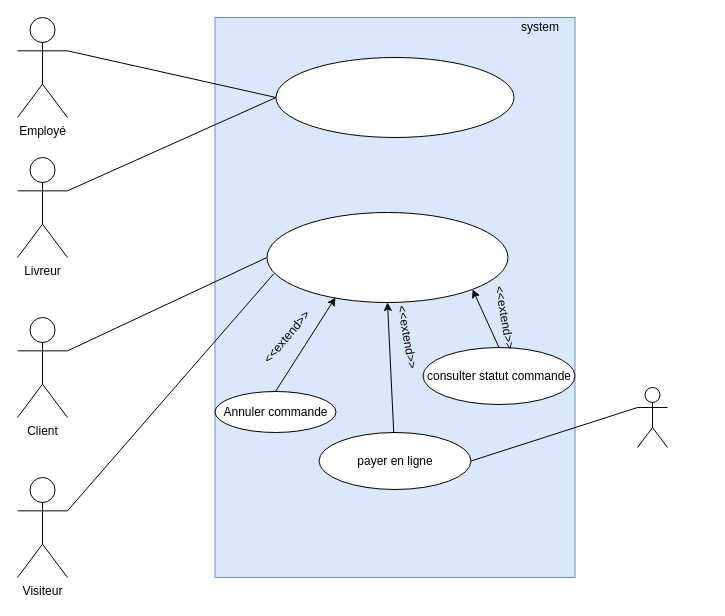
The diagram is 725 pixels wide and 616 high, and some of its shapes have lost their labels. Here are the shapes that lost their labels. From the top down, the centre of each, then its label:
At point (394, 97): "Modifier statut commande".
At point (387, 257): "Commander en ligne".
At point (652, 417): "<<system>> verification paiement".
